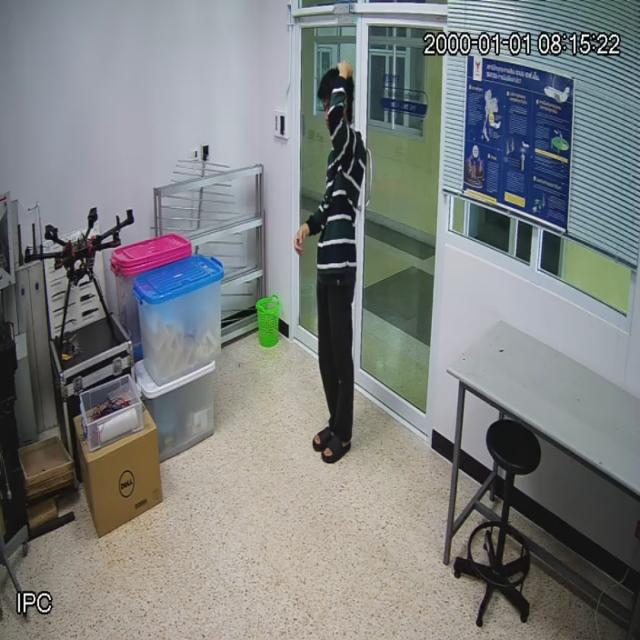normal: (298, 50, 376, 477)
